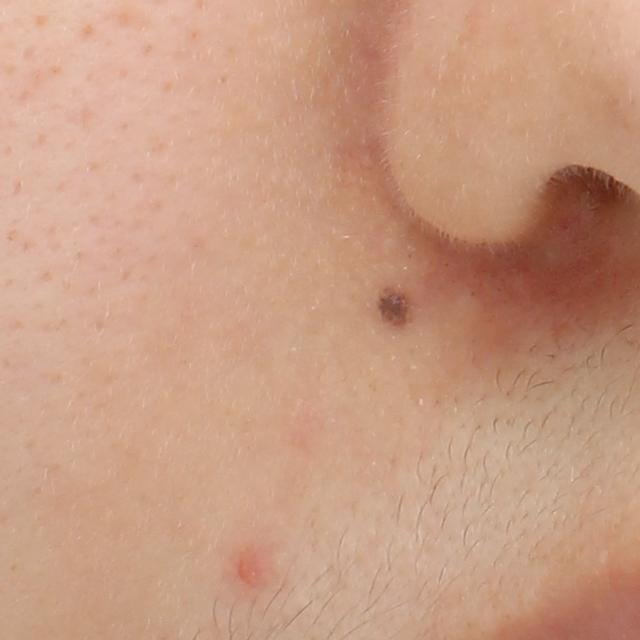nevus: (371, 284, 422, 338)
papule: (235, 560, 261, 590)
